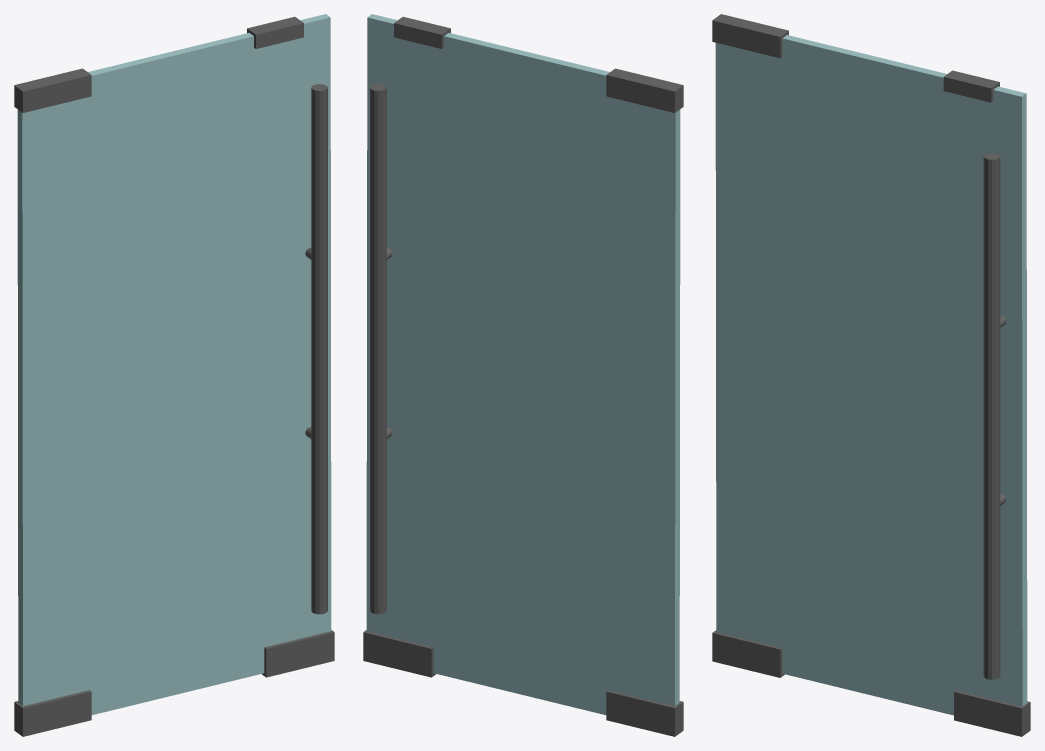
The model's file is GlassDoor_LP.fbx.
3 renders of one model, left to right at view 1: azimuth 30°, elevation 25°; view 2: azimuth 150°, elevation 25°; view 3: azimuth 330°, elevation 25°, orthographic.
Parts seen in each view (by area): view 1: GlassDoorLP; view 2: GlassDoorLP; view 3: GlassDoorLP.
Boxes of the visible parts, x1,y1,x2,y2 form: GlassDoorLP: (14,14,334,736); GlassDoorLP: (363,14,683,736); GlassDoorLP: (712,14,1030,736).
Size of the model in its own units: 455 by 81 by 900.
